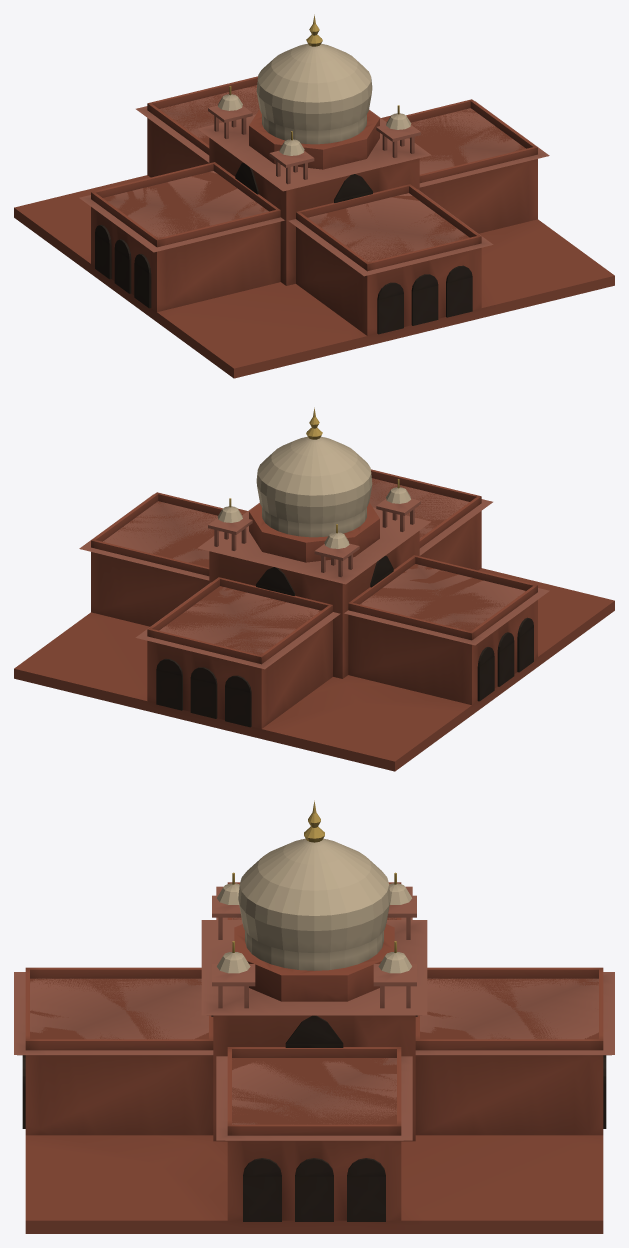
The model's file is ibadat-khana.glb.
3 views of the same model, one above another, from view 1: azimuth 30°, elevation 25°; view 2: azimuth 150°, elevation 25°; view 3: azimuth 270°, elevation 25° (orthographic). The views are drawn at different scales.
Visible parts, largest first — view 1: p1_four halls, p0_plinth, p2_dome; view 2: p1_four halls, p0_plinth, p2_dome; view 3: p1_four halls, p0_plinth, p2_dome.
Part boxes in pixels (box(x1,y1,x2,y2)): p1_four halls: box(79, 76, 549, 335); p0_plinth: box(14, 115, 614, 378); p2_dome: box(197, 14, 431, 191); p1_four halls: box(79, 469, 549, 728); p0_plinth: box(14, 508, 614, 771); p2_dome: box(197, 407, 431, 584); p1_four halls: box(14, 882, 614, 1221); p0_plinth: box(25, 1135, 603, 1233); p2_dome: box(201, 800, 427, 1015).
Bounding box in the file's own units: 41.6 × 23.8 × 41.6.
